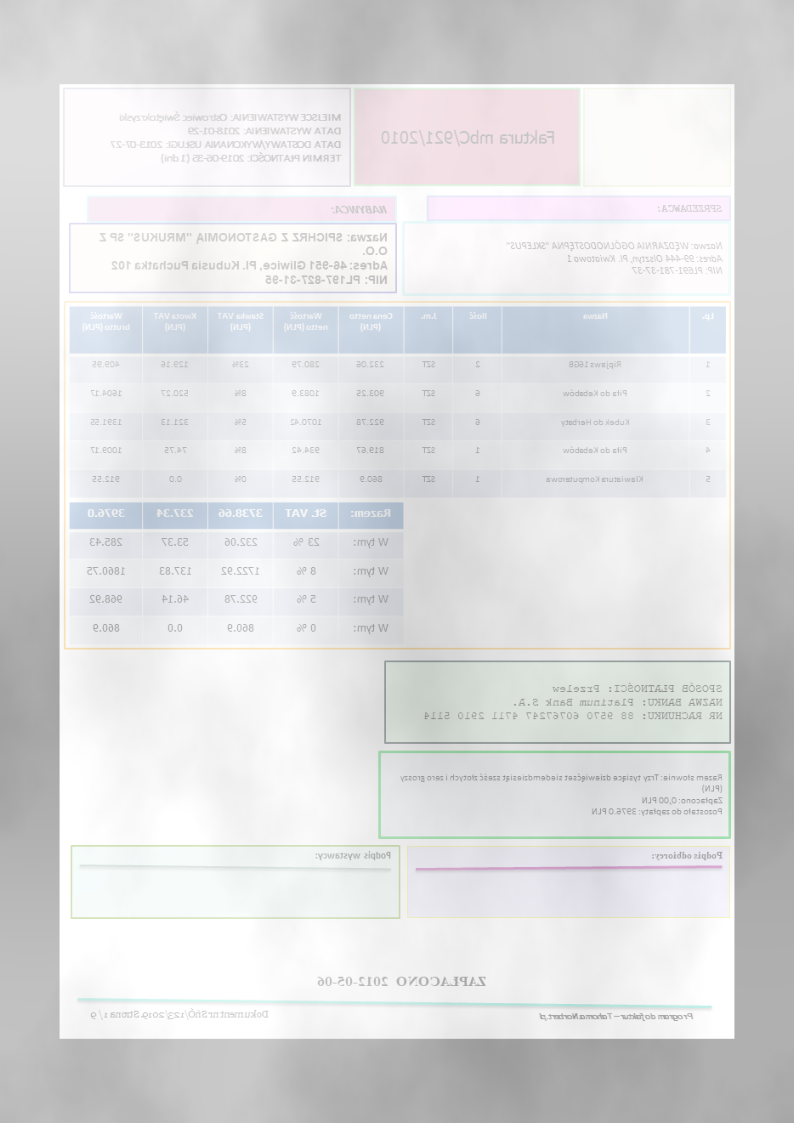Table: (67, 304, 728, 501), (66, 502, 405, 645)
TextBox: (95, 227, 393, 290), (397, 770, 726, 819), (422, 678, 725, 726), (107, 109, 346, 168), (502, 235, 726, 279), (378, 121, 564, 151), (312, 972, 490, 992), (88, 1006, 273, 1025), (534, 1006, 697, 1023), (649, 846, 726, 865), (311, 848, 395, 865), (330, 198, 391, 219), (657, 199, 728, 216)
